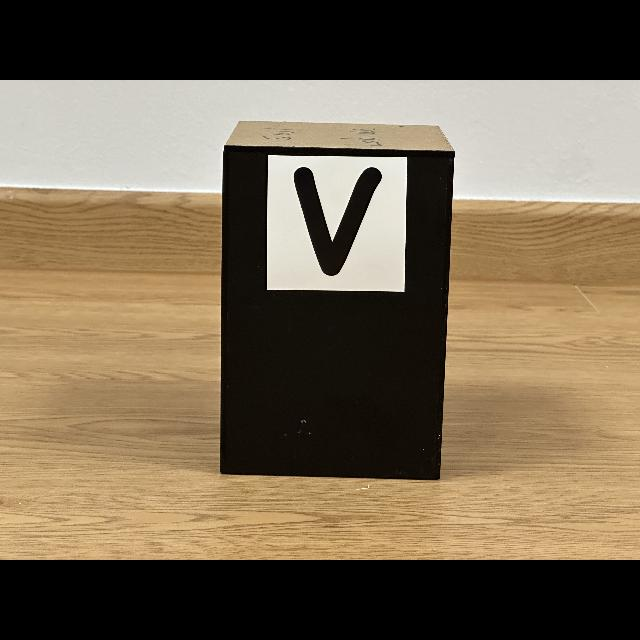V: (294, 168, 381, 276)
